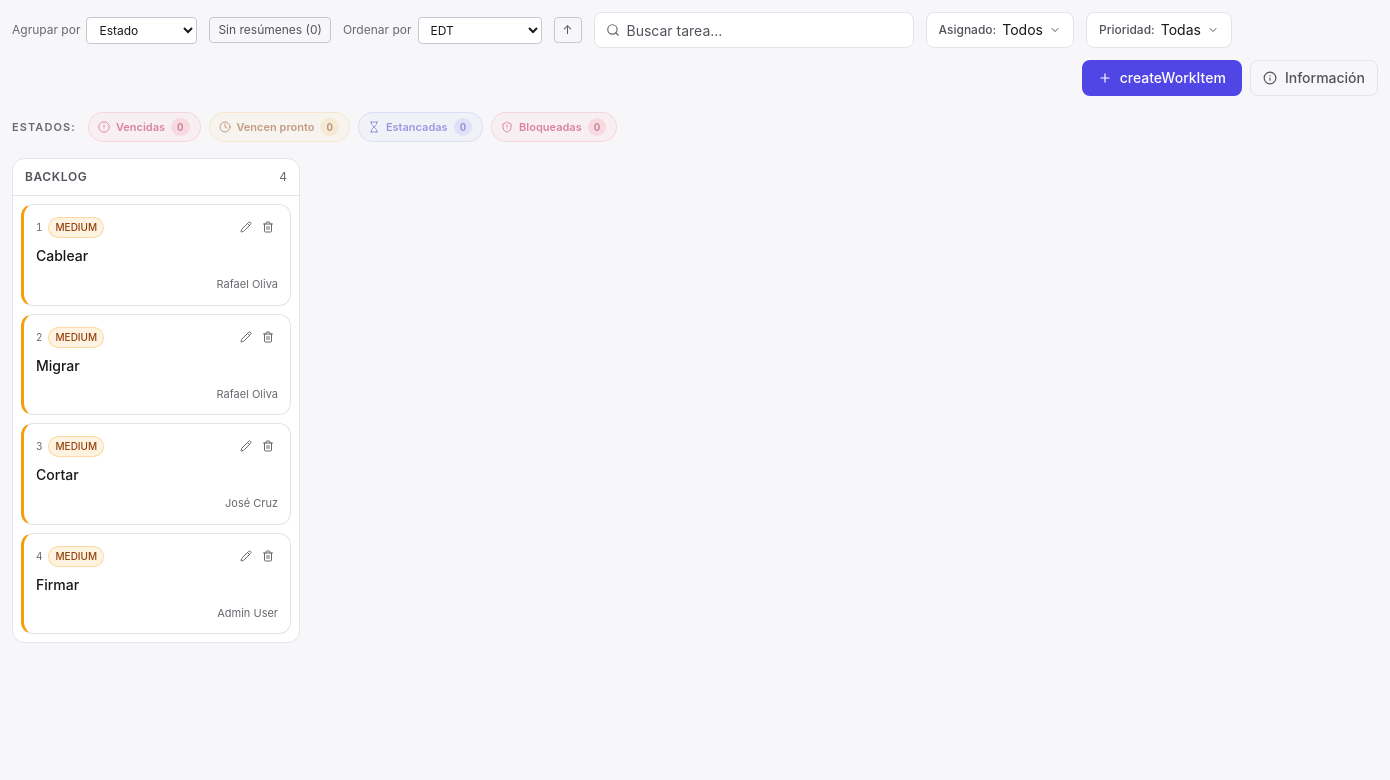
Test: §10.2 · el filtro de personas ofrece lo que la tarjeta enseña › y al elegir a uno, se queda con sus líneas
Click the button "Asignado: Todos" at (1000, 30), box left=926, top=12, right=1074, bottom=48
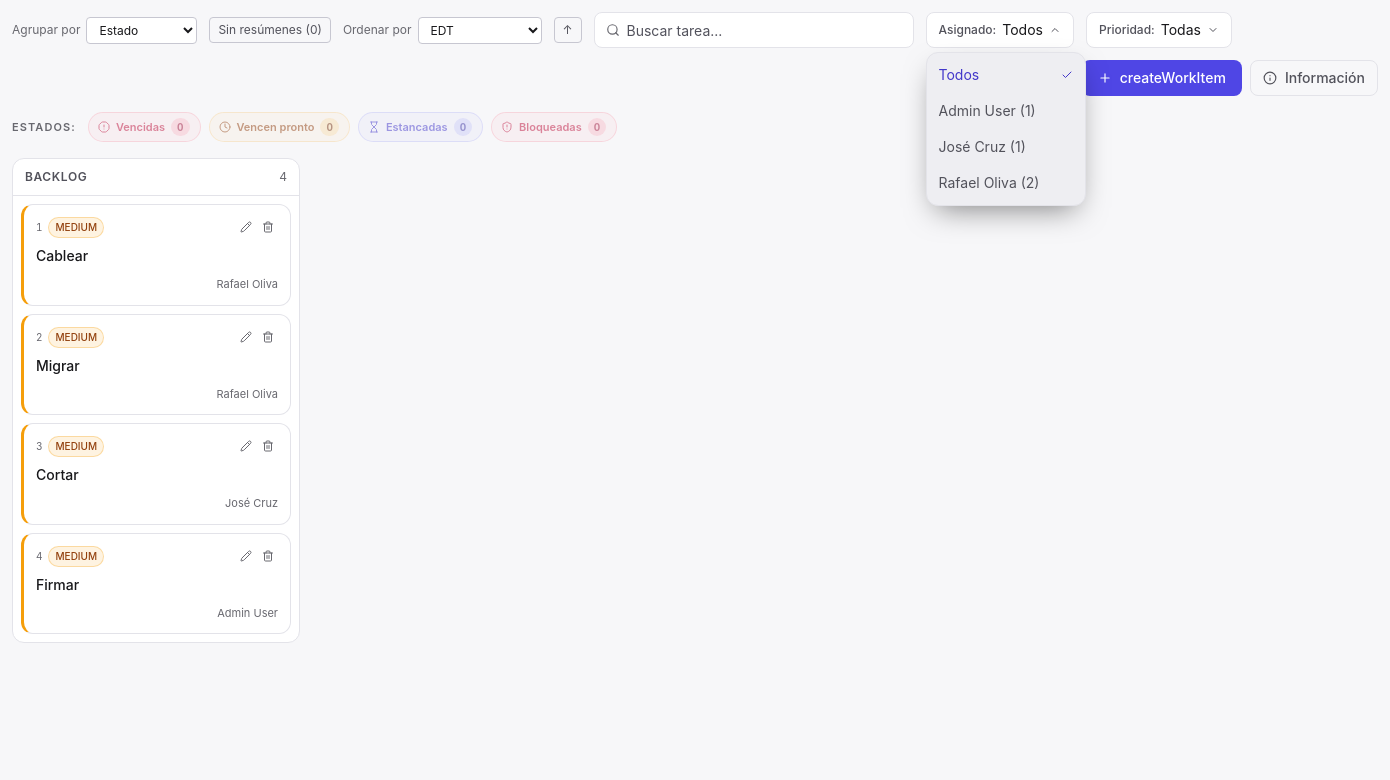
Click the button "Rafael Oliva (2)" at (1006, 183), box left=926, top=165, right=1084, bottom=201
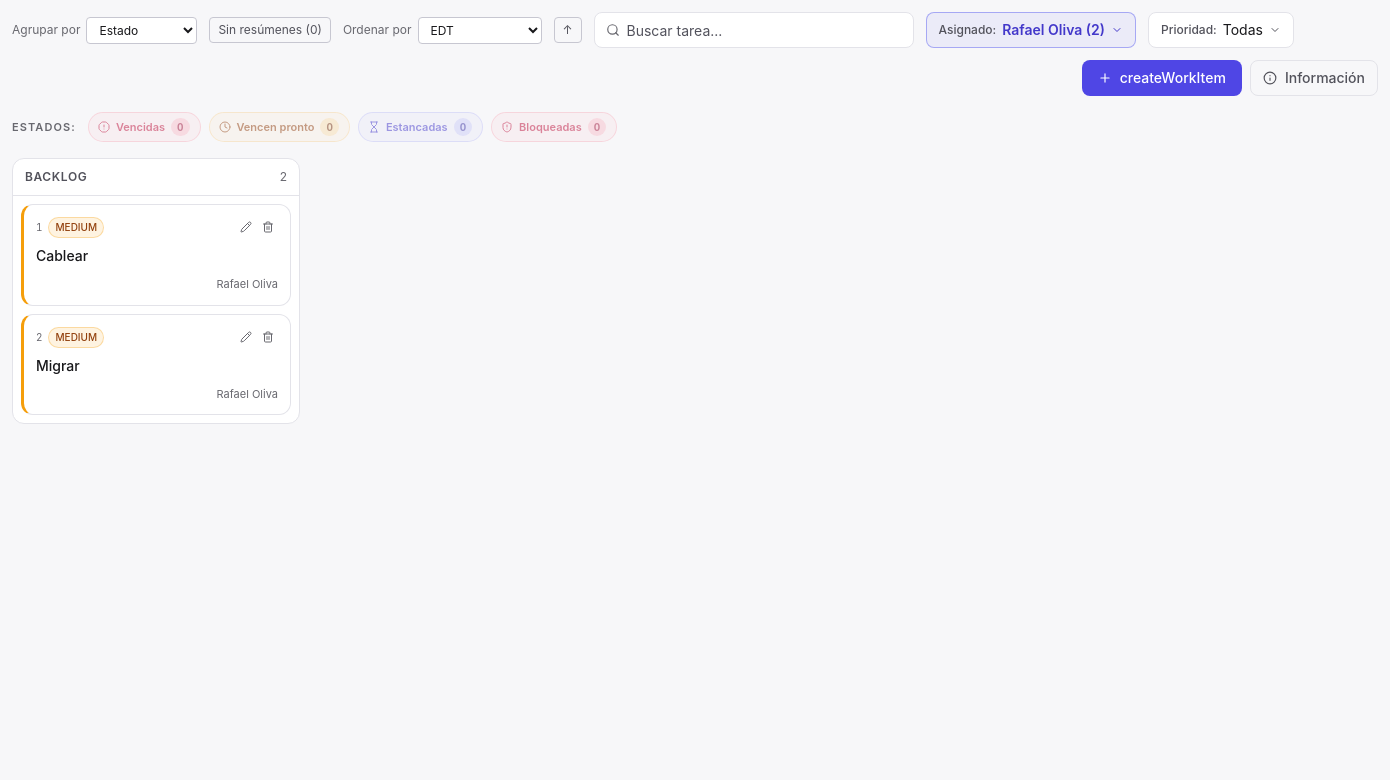
Expected: the text "1" is shown, left=36, top=220, right=42, bottom=235
Expected: the text with test id "edt-tarjeta-c" is gone
